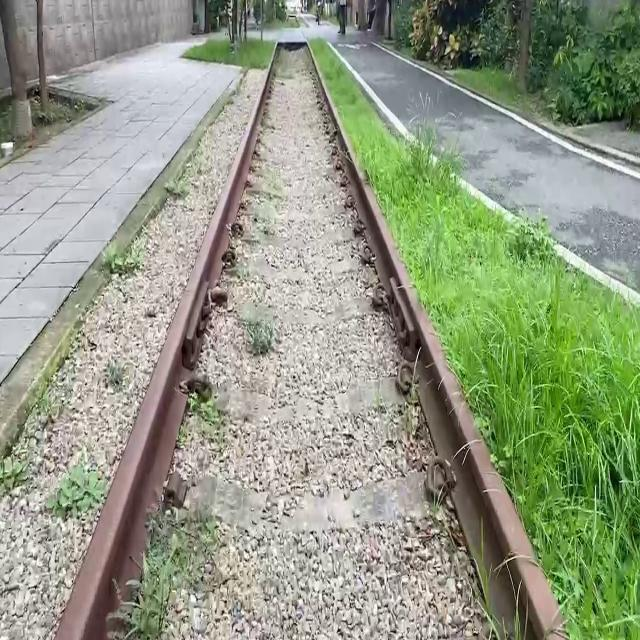rail-track: (136, 48, 491, 640)
